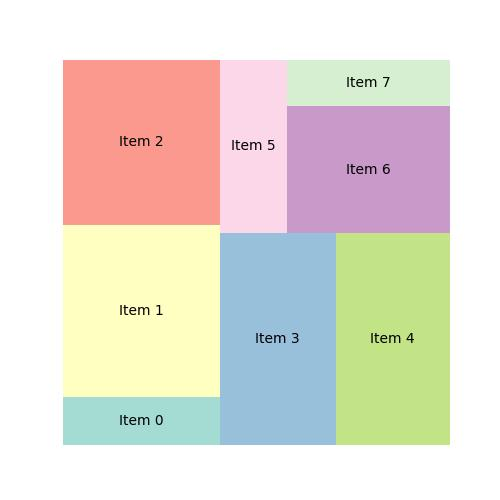rectangle: (64, 226, 221, 397), (63, 59, 220, 226), (220, 234, 336, 445), (336, 234, 450, 445), (288, 106, 450, 234), (220, 59, 288, 234), (288, 57, 450, 106), (64, 398, 220, 445)
